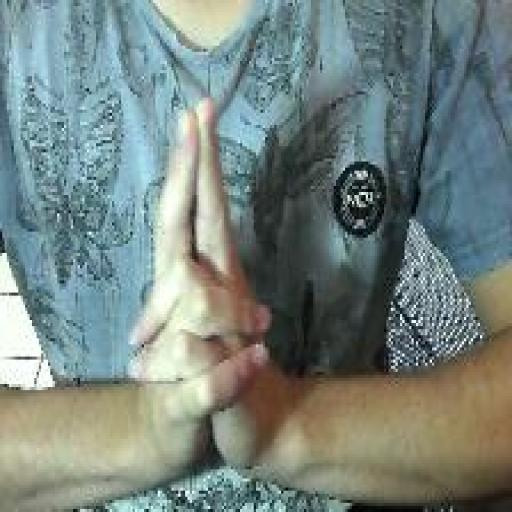Tora -tiger-: (124, 91, 278, 494)
